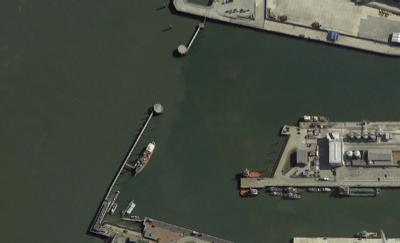Ships: (131, 134, 163, 182)
